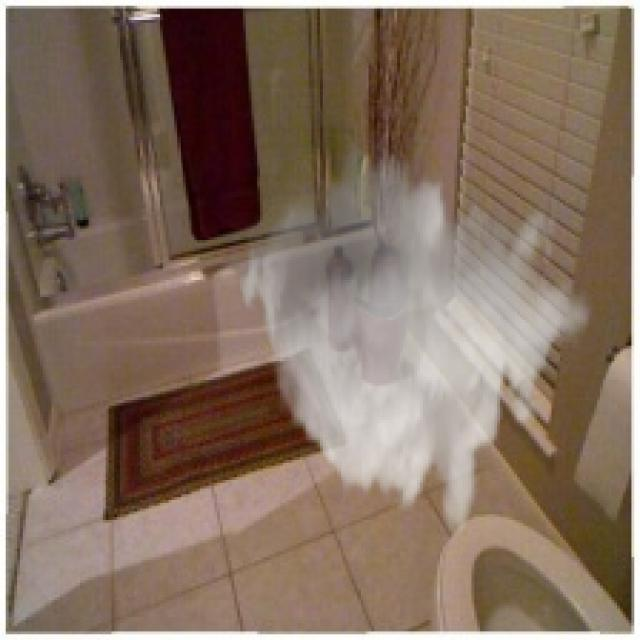Smoke: (234, 128, 592, 538)
